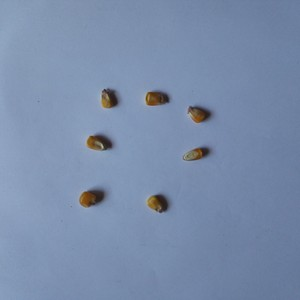maiz: (76, 189, 101, 208), (186, 105, 208, 125), (85, 132, 107, 152), (144, 88, 166, 107), (98, 87, 115, 111), (146, 194, 166, 214), (182, 146, 204, 162)
